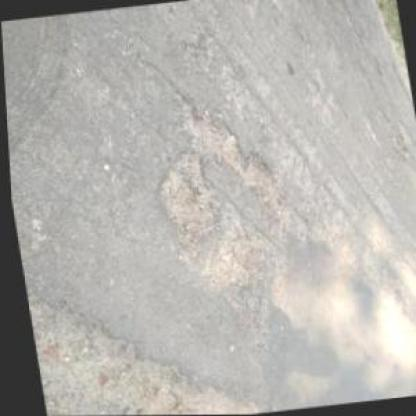pothole: (21, 269, 255, 415), (170, 86, 278, 205), (146, 147, 223, 240), (387, 124, 412, 170)
